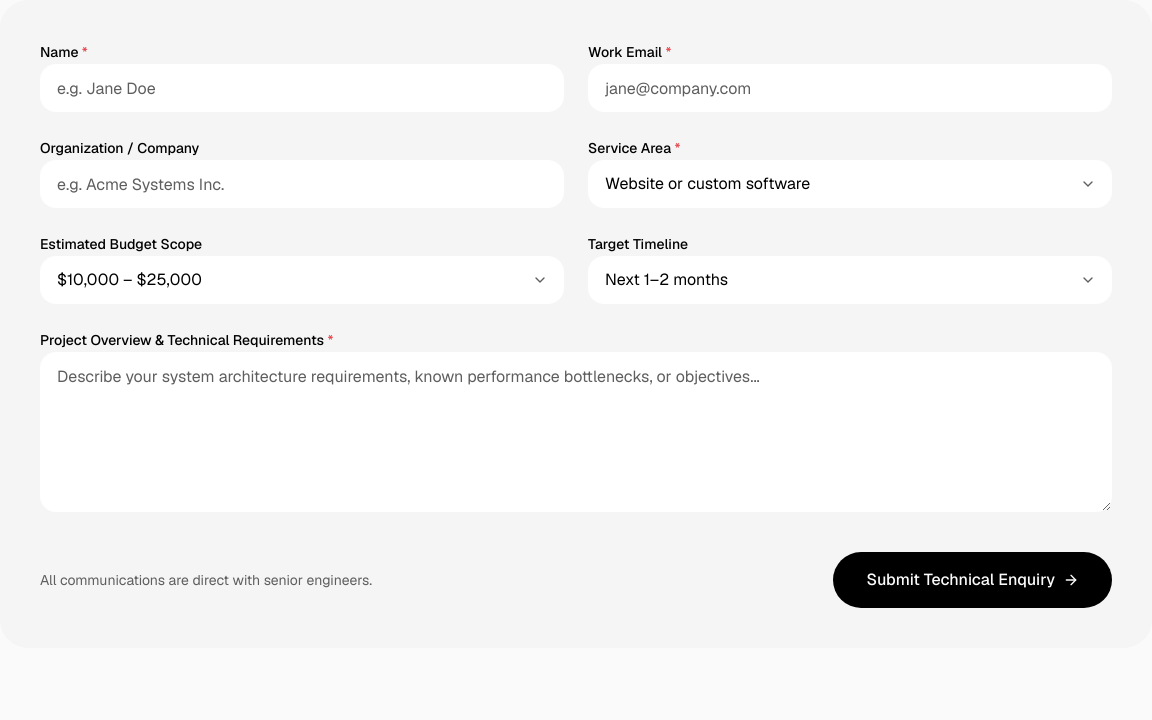
Scenario: ProjectInquiryForm Component › validates required fields on empty submit
Click the button "Submit Technical Enquiry".
click(973, 580)  # box [833, 552, 1112, 608]
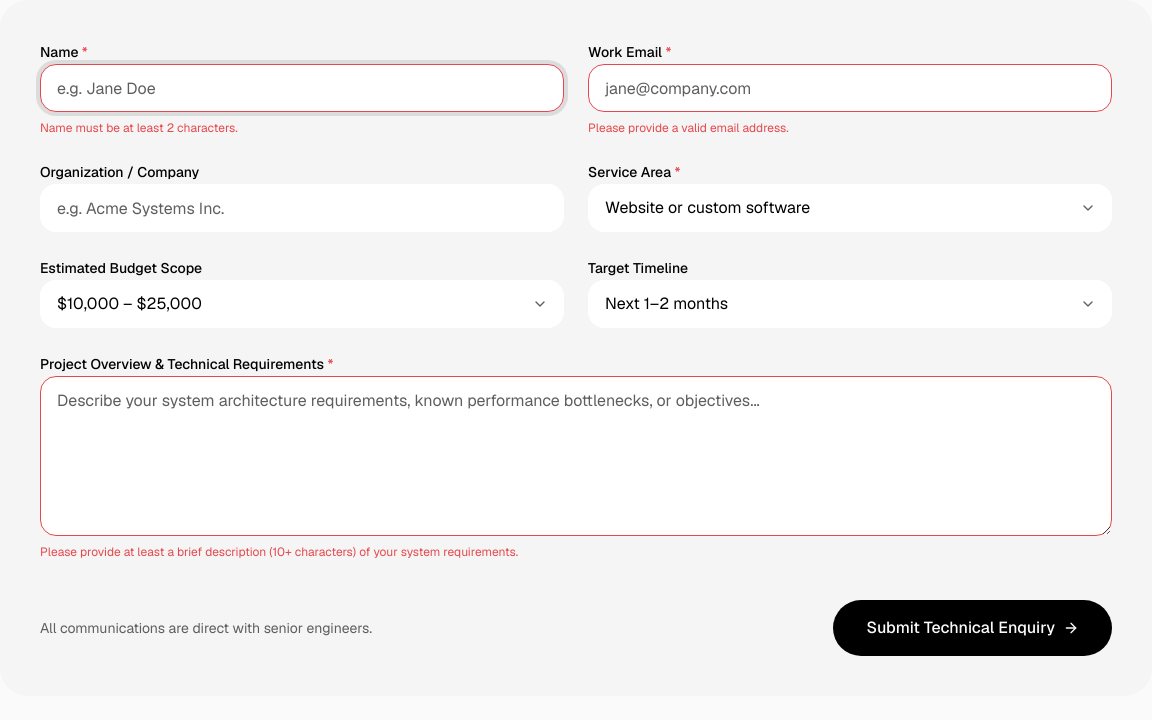
Check: the text "Name must be at least 2 characters." is shown, box [40, 120, 238, 136]
Check: the text "Please provide a valid email address." is shown, box [588, 120, 789, 136]
